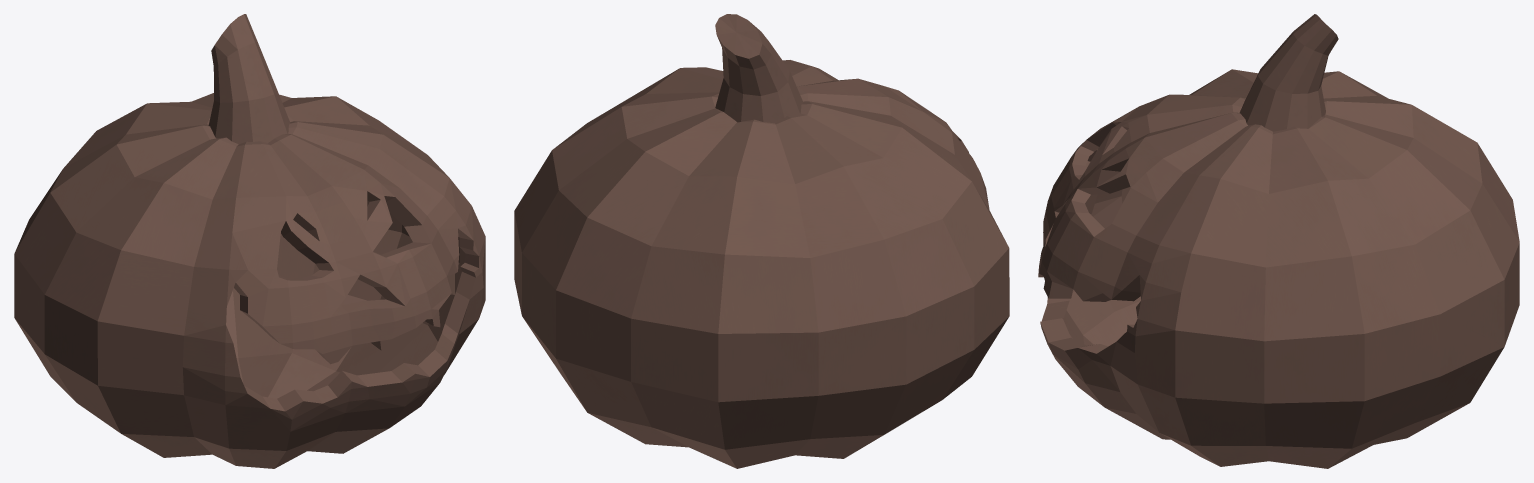
File: Pumpkins.glb
3 renders of one model, left to right at view 1: azimuth 30°, elevation 25°; view 2: azimuth 150°, elevation 25°; view 3: azimuth 270°, elevation 25°, orthographic. The views are drawn at different scales.
Parts seen in each view (by area): view 1: Pumpkin; view 2: Pumpkin; view 3: Pumpkin.
Boxes of the visible parts, x1=… form: Pumpkin: x1=14, y1=14, x2=485, y2=468; Pumpkin: x1=514, y1=14, x2=1009, y2=468; Pumpkin: x1=1038, y1=14, x2=1519, y2=468.
Bounding box in the file's own units: 3 × 2.79 × 2.95.
1 material, 1 textured.
